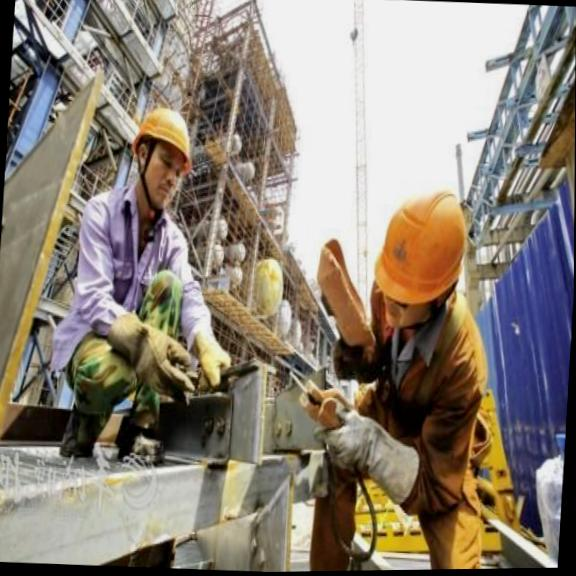no_safety_vest: (335, 316, 491, 511), (65, 199, 189, 360)
